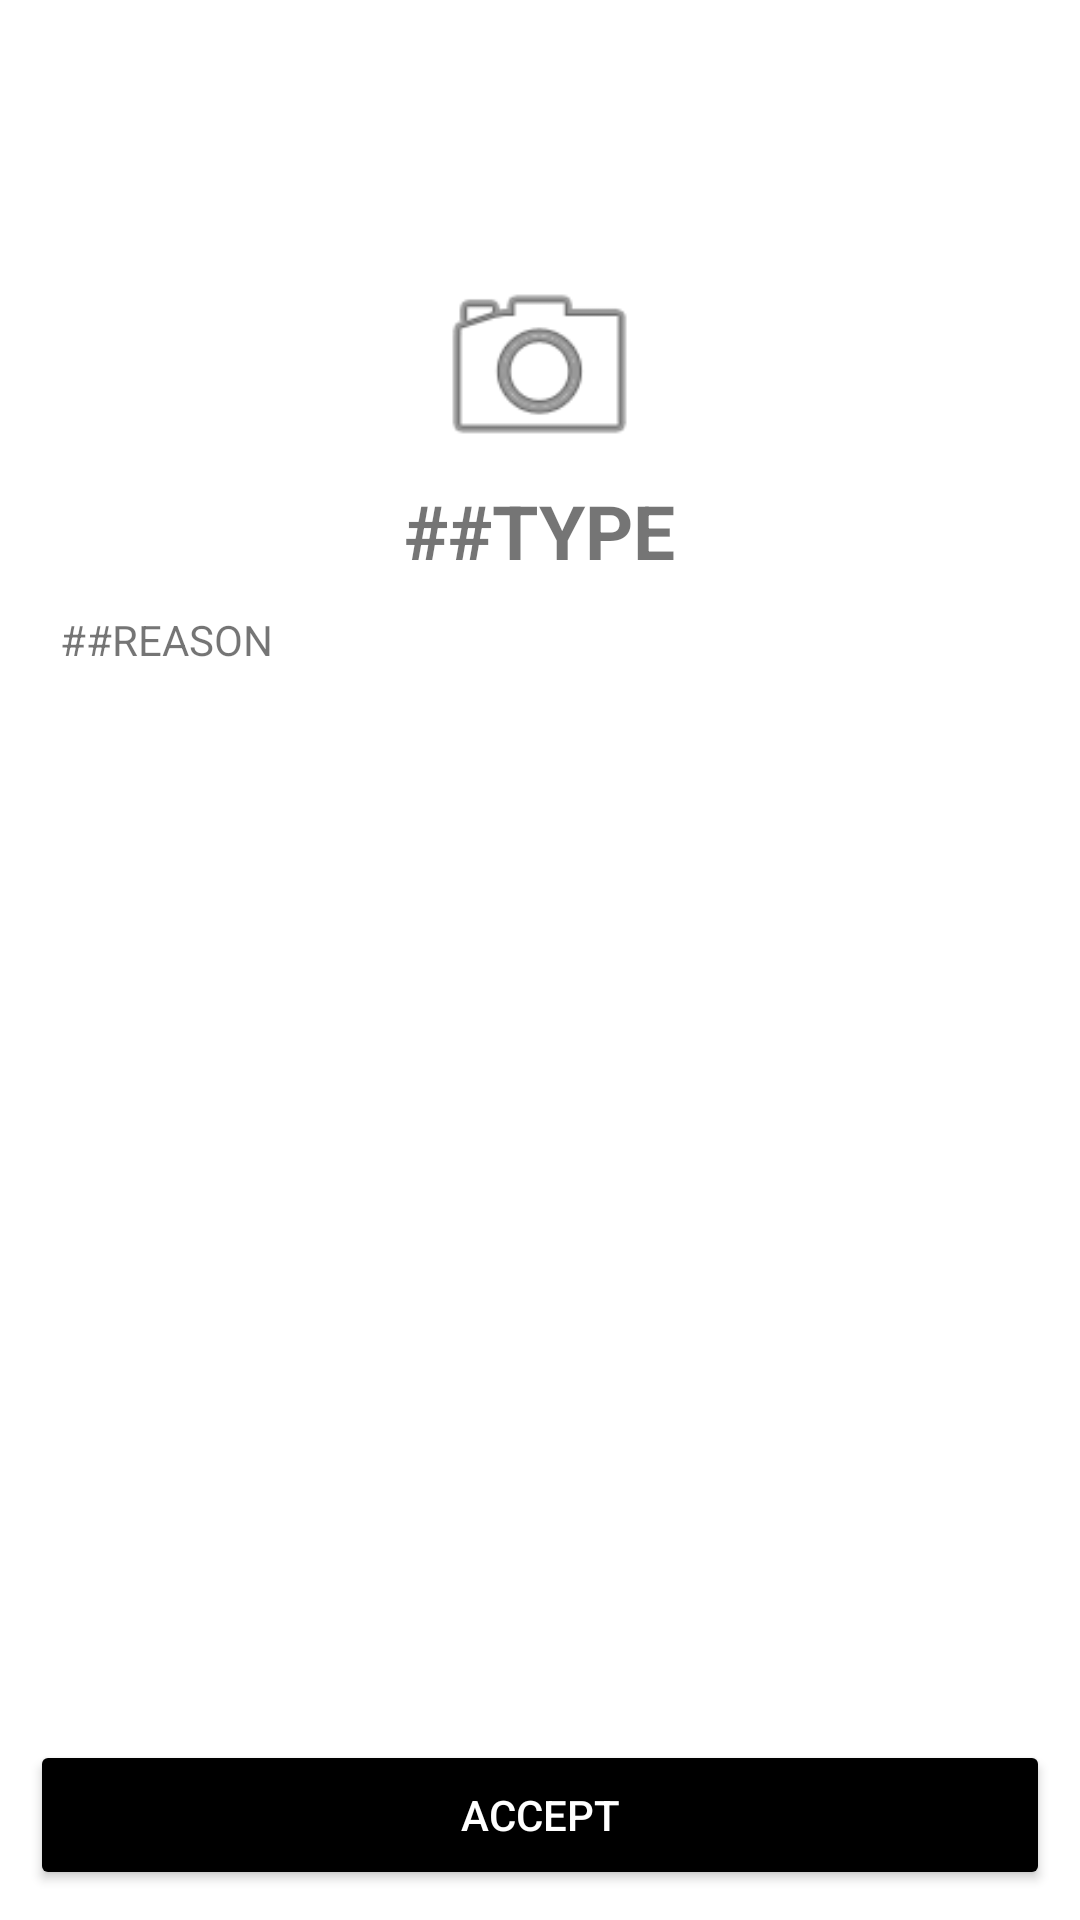

Where to tap for icons on this 1080 x 1920 app screen, as (x,y):
camera: (539,364)
